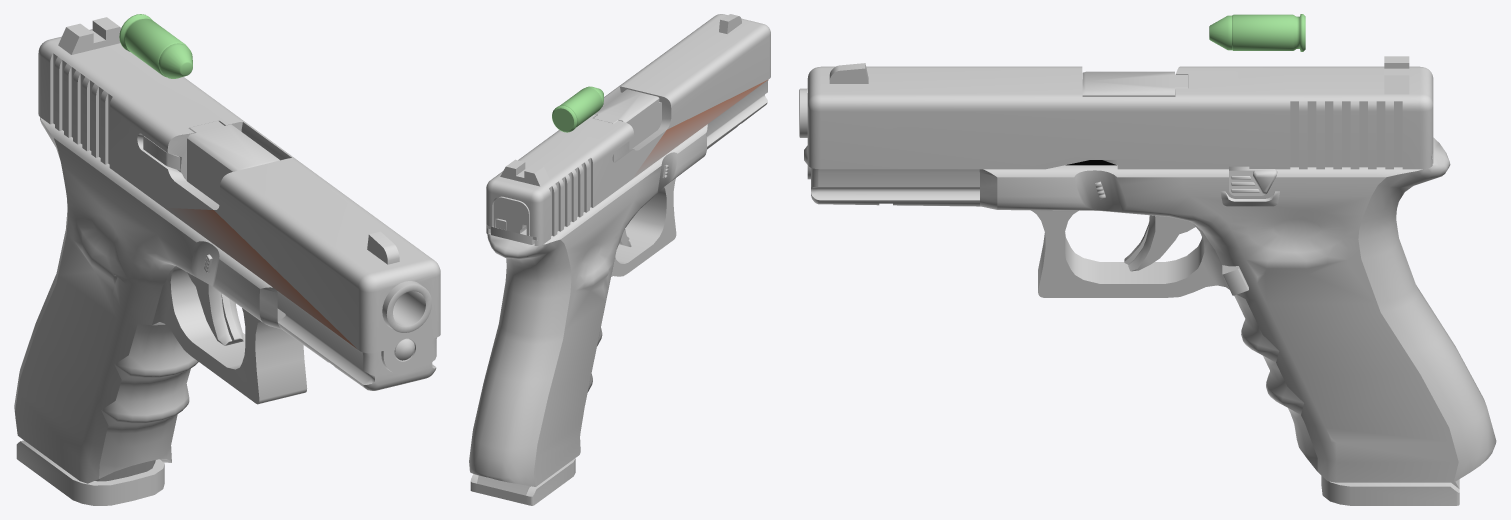
The model's file is WPN_Eder22.fbx.
The picture shows the model from 3 angles, left to right: view 1: azimuth 30°, elevation 25°; view 2: azimuth 150°, elevation 25°; view 3: azimuth 270°, elevation 25°; orthographic projection. The views are drawn at different scales.
Parts seen in each view (by area): view 1: WPN_Eder22, WPN_Eder22_slide, WPN_Eder22_barrel, WPN_Eder22_magazine, cal_40 2, WPN_Eder22_trigger; view 2: WPN_Eder22, WPN_Eder22_slide, WPN_Eder22_barrel, WPN_Eder22_magazine, cal_40 2; view 3: WPN_Eder22, WPN_Eder22_slide, cal_40 2, WPN_Eder22_magazine, WPN_Eder22_barrel, WPN_Eder22_trigger.
Part boxes in pixels (box(x1,y1,x2,y2)): WPN_Eder22: box(14, 117, 436, 483); WPN_Eder22_slide: box(38, 17, 440, 373); WPN_Eder22_barrel: box(187, 121, 431, 332); WPN_Eder22_magazine: box(16, 440, 164, 505); cal_40 2: box(119, 14, 192, 78); WPN_Eder22_trigger: box(187, 272, 243, 345); WPN_Eder22: box(469, 80, 768, 486); WPN_Eder22_slide: box(486, 14, 770, 245); WPN_Eder22_barrel: box(593, 89, 661, 149); WPN_Eder22_magazine: box(470, 458, 575, 505); cal_40 2: box(552, 86, 603, 132); WPN_Eder22: box(804, 137, 1496, 482); WPN_Eder22_slide: box(807, 56, 1433, 179); cal_40 2: box(1209, 14, 1305, 51); WPN_Eder22_magazine: box(1321, 476, 1459, 505); WPN_Eder22_barrel: box(799, 71, 1187, 137); WPN_Eder22_trigger: box(1124, 215, 1195, 271).
Size of the model in its own units: 0.0339 by 0.1512 by 0.2045.
